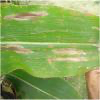Corn leaf blight: (1, 2, 99, 79)
